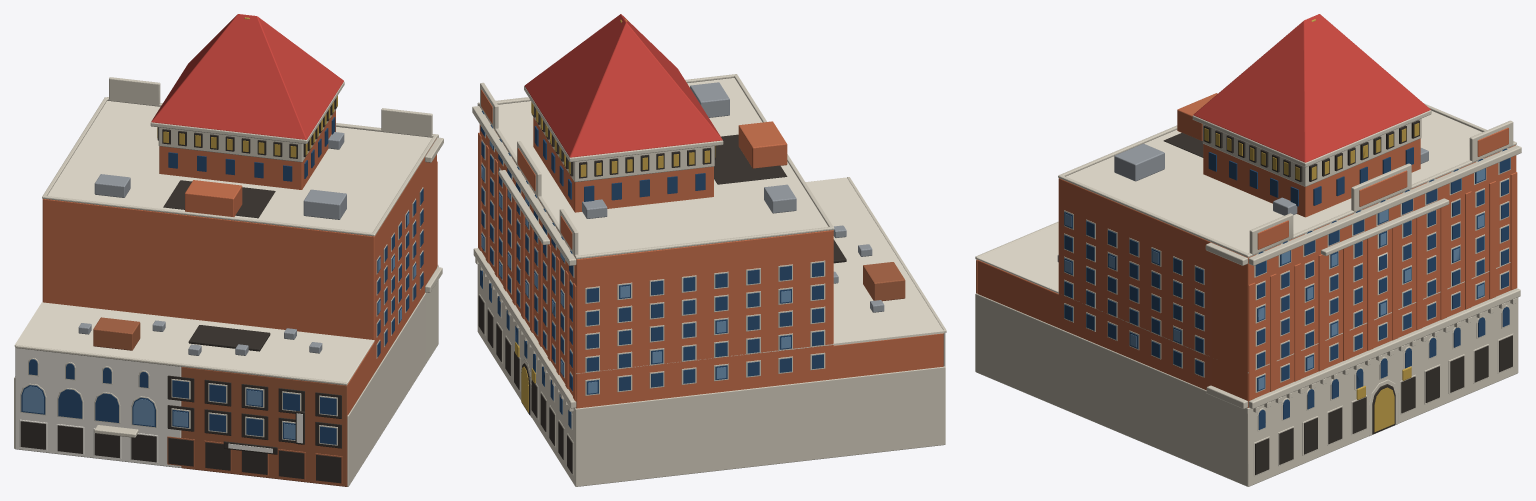
File: 169-steuart.optimized.glb
3 renders of one model, left to right at view 1: azimuth 30°, elevation 25°; view 2: azimuth 150°, elevation 25°; view 3: azimuth 270°, elevation 25°, orthographic. The views are drawn at different scales.
Visible parts, largest first — view 1: grp_Toy_brick_Toy_sand, grp_Toy_stone, tile_roof, grp_Toy_ink, grp_Toy_sand, grp_Toy_rust, grp_Toy_cream, grp_Toy_glass, grp_Toy_brick, grp_Toy_steel, grp_Toy_glass_Glow, grp_Toy_gold_Glow; view 2: grp_Toy_brick_Toy_sand, grp_Toy_stone, tile_roof, grp_Toy_brick, grp_Toy_glass, grp_Toy_sand, grp_Toy_ink, grp_Toy_steel, grp_Toy_rust, grp_Toy_glass_Glow, grp_Toy_gold_Glow; view 3: grp_Toy_stone, grp_Toy_brick_Toy_sand, tile_roof, grp_Toy_brick, grp_Toy_glass, grp_Toy_ink, grp_Toy_sand, grp_Toy_gold_Glow, grp_Toy_steel, grp_Toy_glass_Glow.
Part boxes in pixels (<box>): grp_Toy_brick_Toy_sand: <box>42,101,436,414</box>; grp_Toy_stone: <box>14,77,443,486</box>; tile_roof: <box>151,14,343,139</box>; grp_Toy_ink: <box>20,98,341,483</box>; grp_Toy_sand: <box>14,302,374,383</box>; grp_Toy_rust: <box>93,317,347,486</box>; grp_Toy_cream: <box>15,345,181,467</box>; grp_Toy_glass: <box>21,117,423,444</box>; grp_Toy_brick: <box>159,110,437,266</box>; grp_Toy_steel: <box>78,132,346,355</box>; grp_Toy_glass_Glow: <box>22,213,416,439</box>; grp_Toy_gold_Glow: <box>157,95,337,157</box>; grp_Toy_brick_Toy_sand: <box>479,78,943,408</box>; grp_Toy_stone: <box>472,74,946,486</box>; tile_roof: <box>524,14,722,157</box>; grp_Toy_brick: <box>478,89,787,401</box>; grp_Toy_glass: <box>480,111,823,428</box>; grp_Toy_sand: <box>489,177,944,373</box>; grp_Toy_ink: <box>478,105,846,473</box>; grp_Toy_steel: <box>582,82,884,312</box>; grp_Toy_rust: <box>863,262,905,301</box>; grp_Toy_glass_Glow: <box>481,140,790,393</box>; grp_Toy_gold_Glow: <box>521,102,715,412</box>; grp_Toy_stone: <box>975,103,1521,486</box>; grp_Toy_brick_Toy_sand: <box>977,111,1516,407</box>; tile_roof: <box>1193,14,1430,162</box>; grp_Toy_brick: <box>1177,93,1517,400</box>; grp_Toy_glass: <box>1064,147,1510,429</box>; grp_Toy_ink: <box>1163,120,1512,474</box>; grp_Toy_sand: <box>977,223,1510,373</box>; grp_Toy_gold_Glow: <box>1204,123,1419,432</box>; grp_Toy_steel: <box>1057,143,1428,262</box>; grp_Toy_glass_Glow: <box>1065,168,1485,390</box>.
Size of the model in its own units: 60.14 by 46.64 by 60.28.
